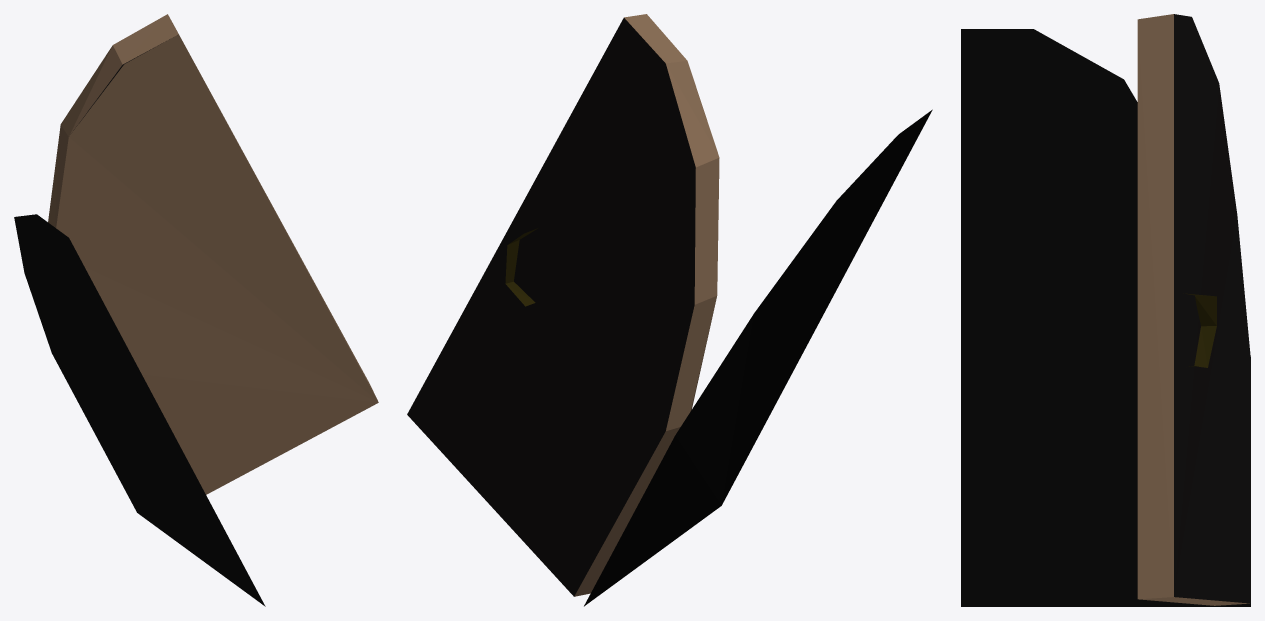
Rendered from obj_hillside_entrance_2_0.obj.
3 renders of one model, left to right at view 1: azimuth 30°, elevation 25°; view 2: azimuth 150°, elevation 25°; view 3: azimuth 270°, elevation 25°, orthographic. The views are drawn at different scales.
Size of the model in its own units: 1.77 by 2.25 by 1.
